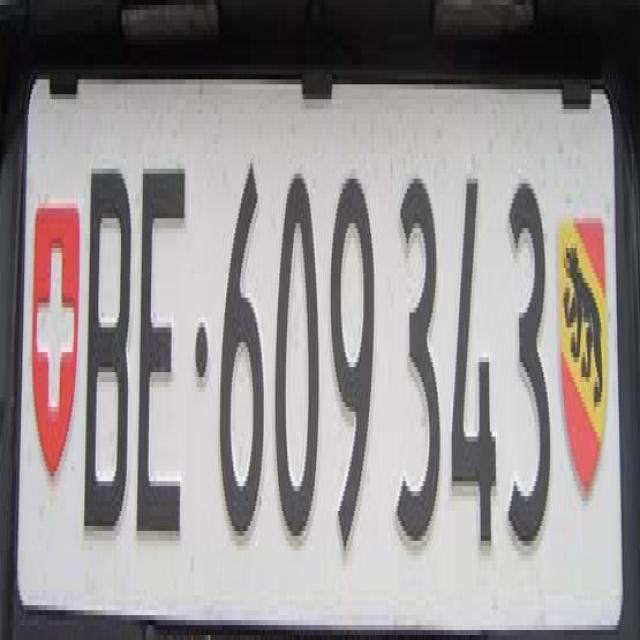Autre: (20, 58, 622, 640)
